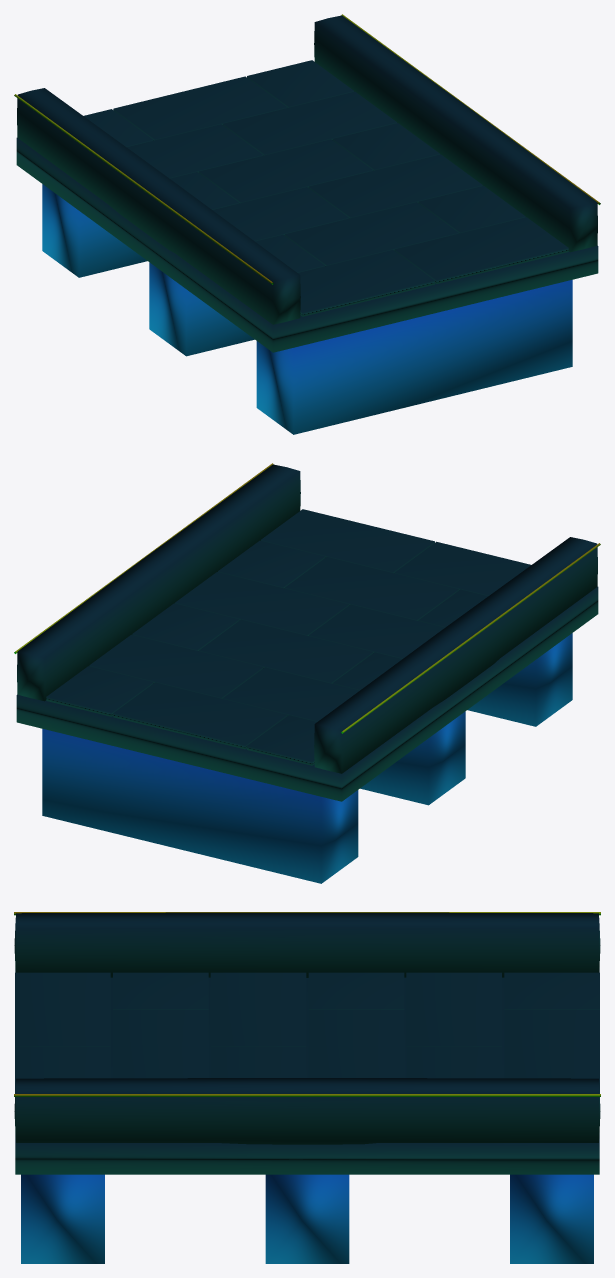
The model's file is ansedra_causeway_6m.glb.
3 renders of one model, top to bottom at view 1: azimuth 30°, elevation 25°; view 2: azimuth 150°, elevation 25°; view 3: azimuth 270°, elevation 25°, orthographic. The views are drawn at different scales.
Parts seen in each view (by area): view 1: ansedra_causeway_6m; view 2: ansedra_causeway_6m; view 3: ansedra_causeway_6m.
Part boxes in pixels (box(x1,y1,x2,y2)): ansedra_causeway_6m: box(14, 14, 600, 434); ansedra_causeway_6m: box(14, 463, 600, 883); ansedra_causeway_6m: box(14, 912, 600, 1263).
Size of what is drawn, in the model's own units: 4.44 by 2.08 by 6.
